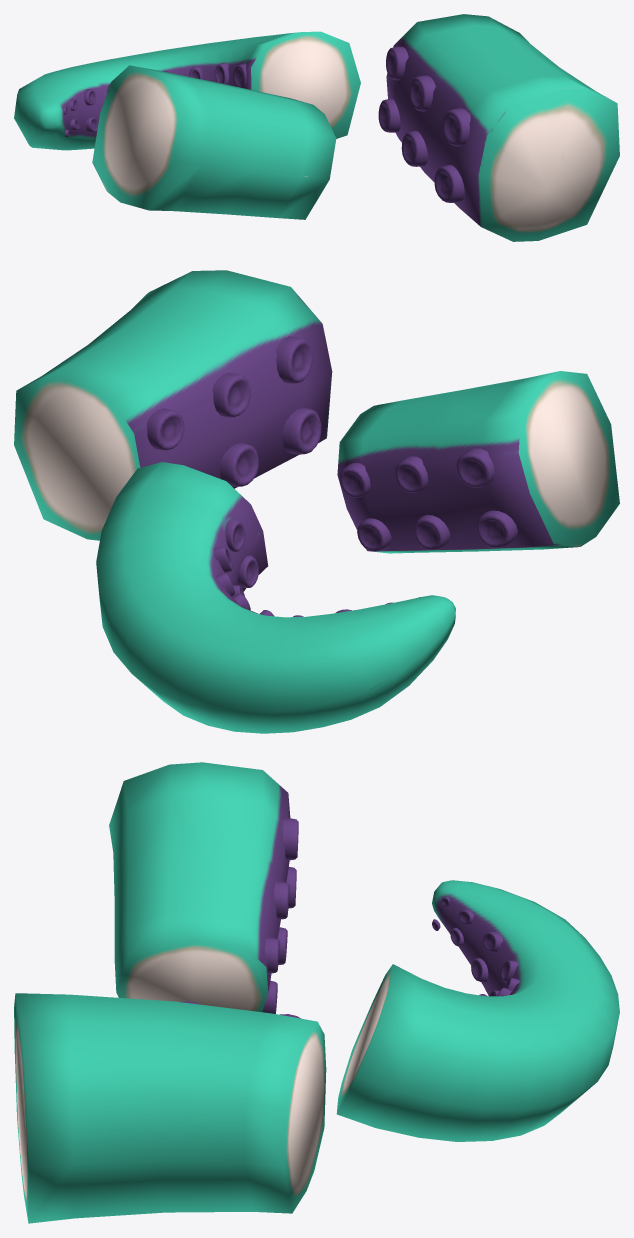
Rendered from TentaculoDeKraken_cortado.fbx.
3 renders of one model, top to bottom at view 1: azimuth 30°, elevation 25°; view 2: azimuth 150°, elevation 25°; view 3: azimuth 270°, elevation 25°, orthographic. The views are drawn at different scales.
Visible parts, largest first — view 1: TentaculoKraken_cortado; view 2: TentaculoKraken_cortado; view 3: TentaculoKraken_cortado.
Part boxes in pixels (x1,y1,x2,y2): TentaculoKraken_cortado: [14, 14, 619, 241]; TentaculoKraken_cortado: [14, 270, 619, 733]; TentaculoKraken_cortado: [14, 762, 619, 1223].
Bounding box in the file's own units: 162 × 72.22 × 154.
1 material, 1 textured.
